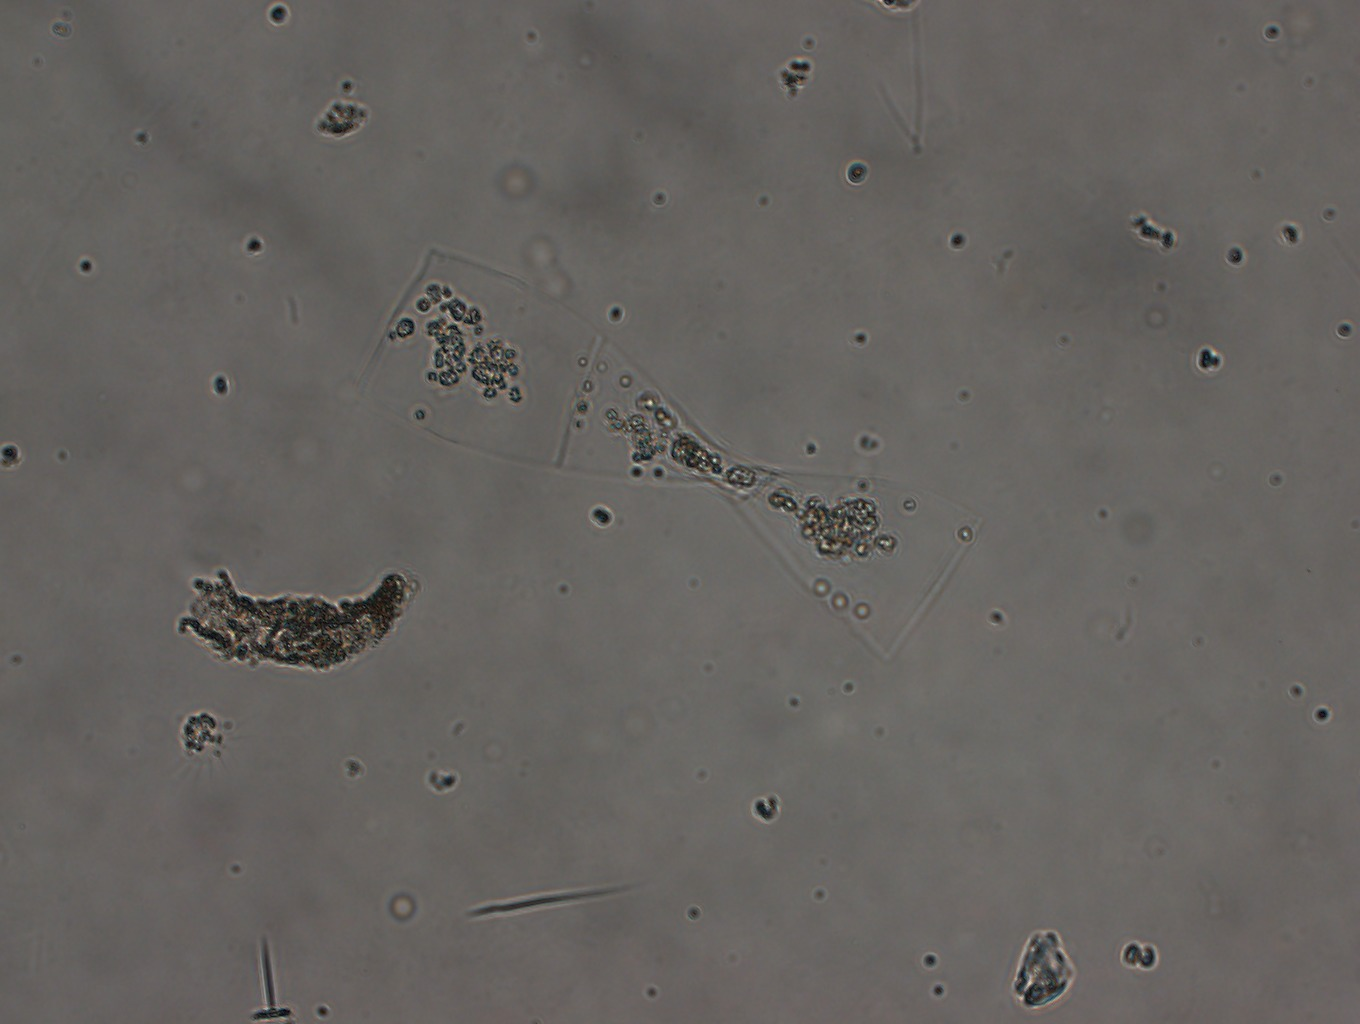helicotheca: (350, 242, 983, 665)
